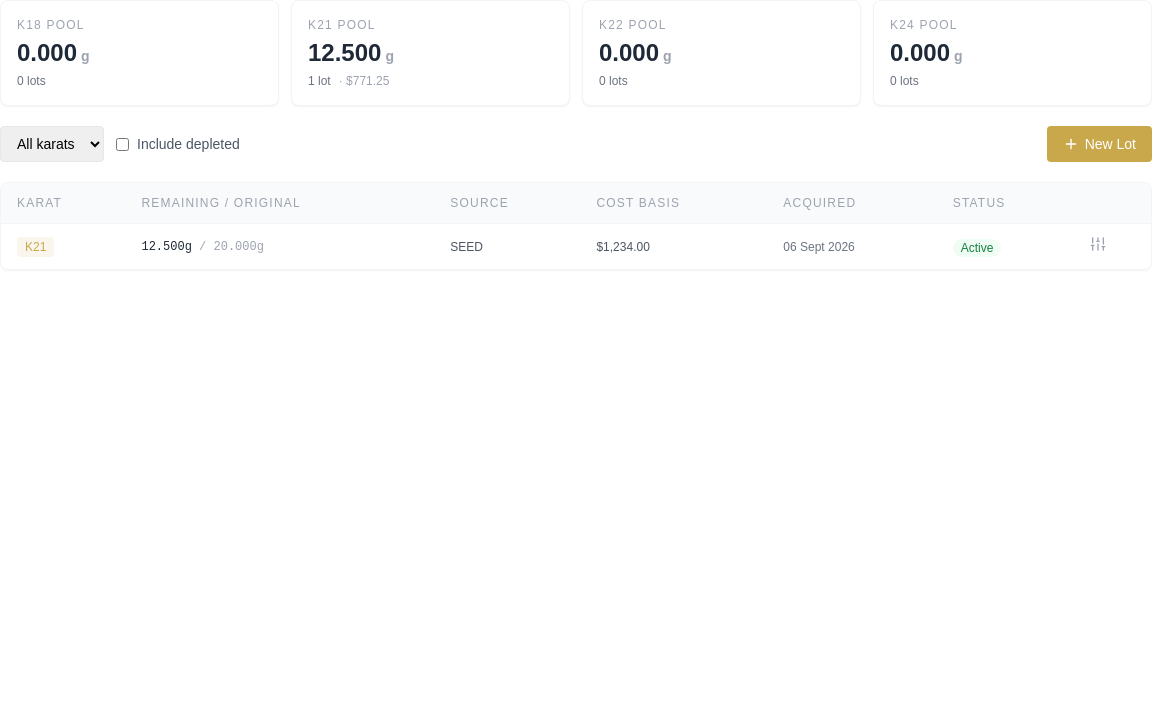
Test: lots labels (NEX-64) › every field in the adjust dialog is reachable by its label
Click the button named "Manual adjustment: K21 lot 9f3c1a2b": (1098, 244) [1090,236,1106,252]
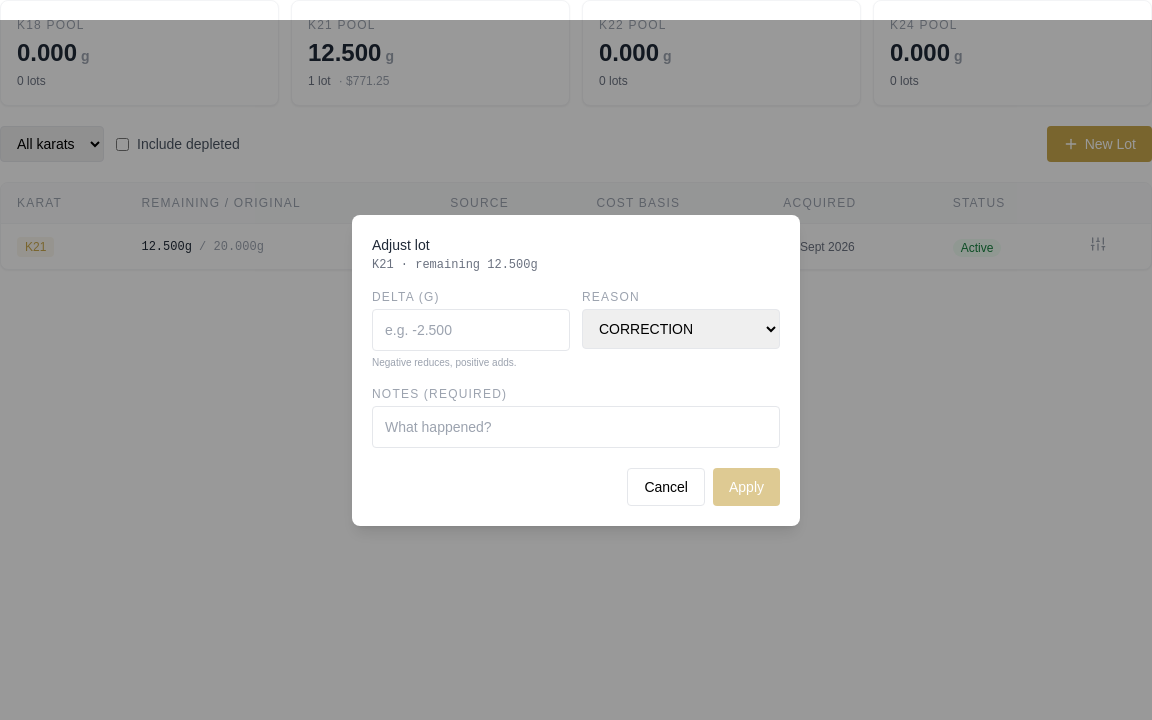
Now the label "Delta (g)" is shown, box [372,288,570,350]
Now the label "Reason" is shown, box [582,288,780,370]
Now the label "Notes (required)" is shown, box [372,386,780,448]
